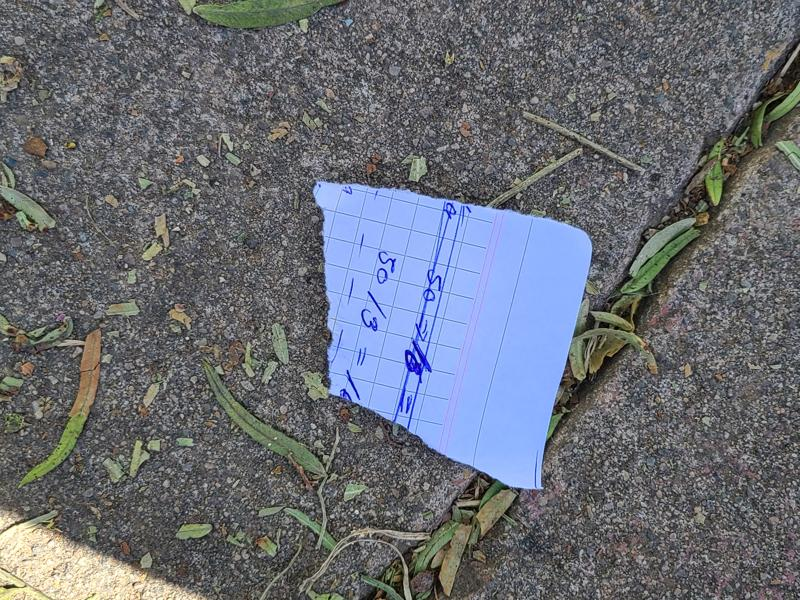papel: (312, 181, 593, 492)
